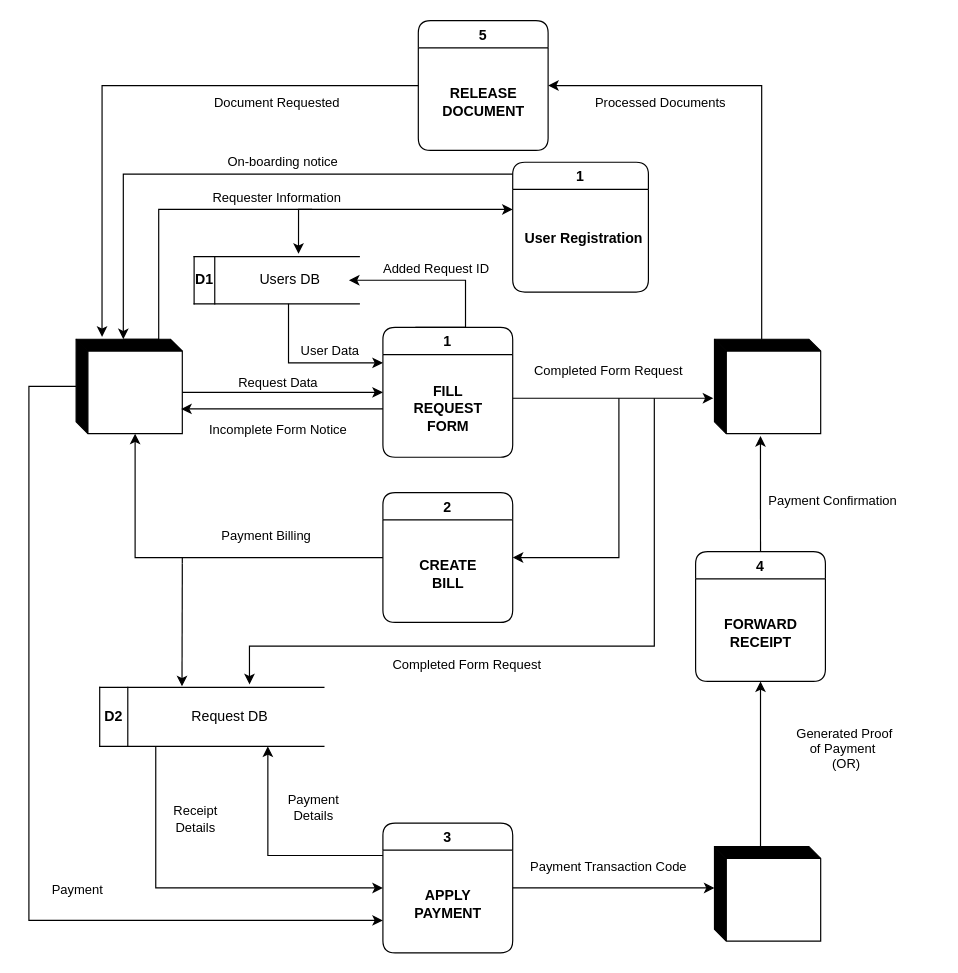
The diagram is 958 pixels wide and 973 high, and some of its shapes have lost their labels. Here are the shapes that lost their labels. From the top down, the centre of each, then its label:
point 128,386: REQUESTER
point 767,386: CAS COLLEGE SECRETARY
point 767,893: CASH OFFICE
